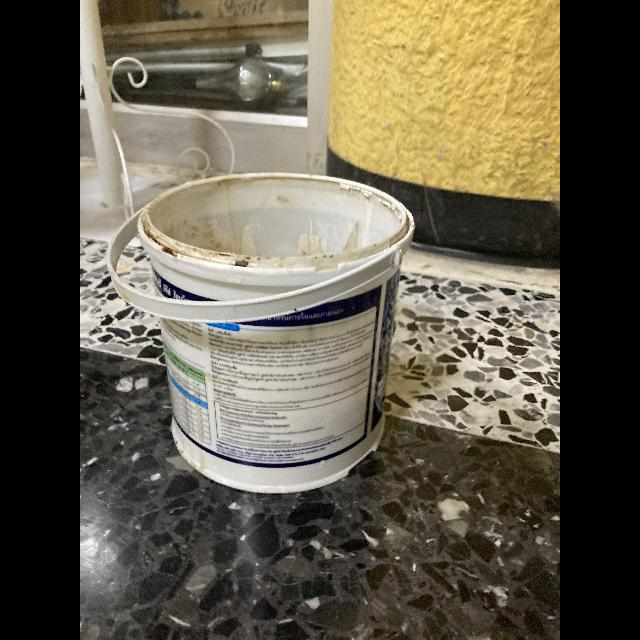paint_bucket: (133, 169, 415, 495)
